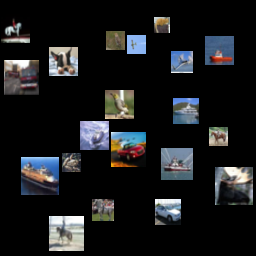airplane: (19, 164, 48, 193)
automobile: (209, 113, 247, 151), (166, 131, 198, 163), (190, 94, 206, 110)
bird: (90, 124, 128, 162), (21, 51, 53, 83), (154, 173, 173, 192)
cat: (107, 180, 145, 218), (180, 170, 206, 196)
deer: (65, 169, 103, 207), (4, 1, 42, 39), (139, 4, 171, 36)
dog: (58, 19, 96, 57), (87, 88, 119, 120), (179, 46, 208, 75)
frog: (149, 90, 178, 119)
